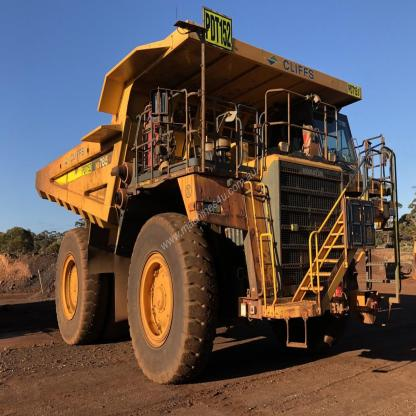dump_truck: (28, 20, 388, 380)
